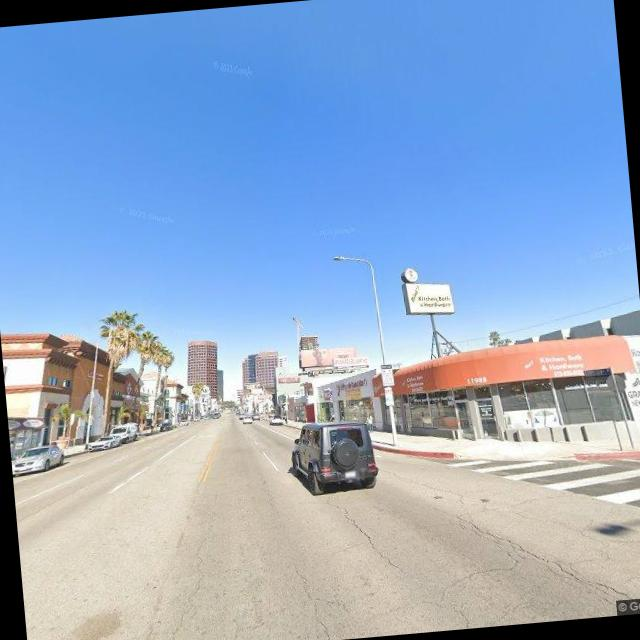crack: (425, 475, 640, 626)
pothole: (126, 511, 227, 640), (323, 487, 403, 576), (287, 556, 344, 640)
